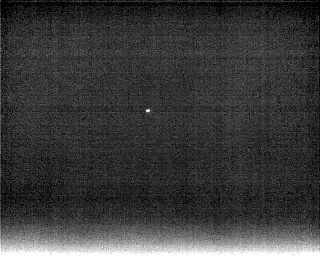BIRD: (144, 106, 152, 115)
